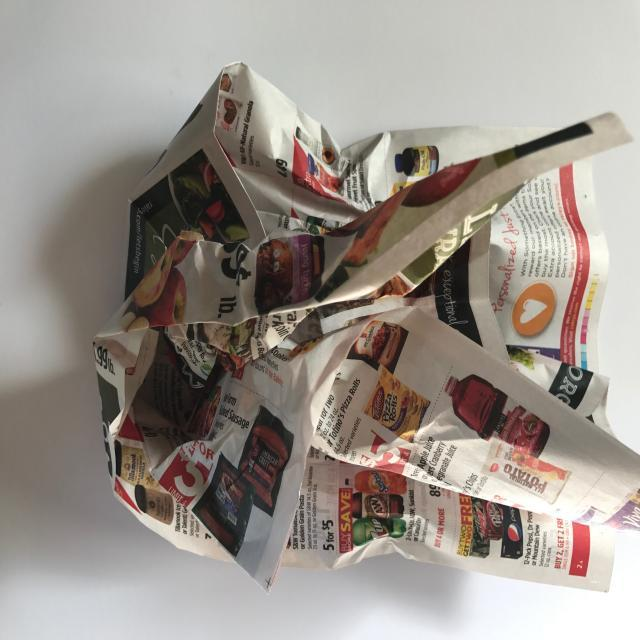paper: (93, 59, 640, 590)
